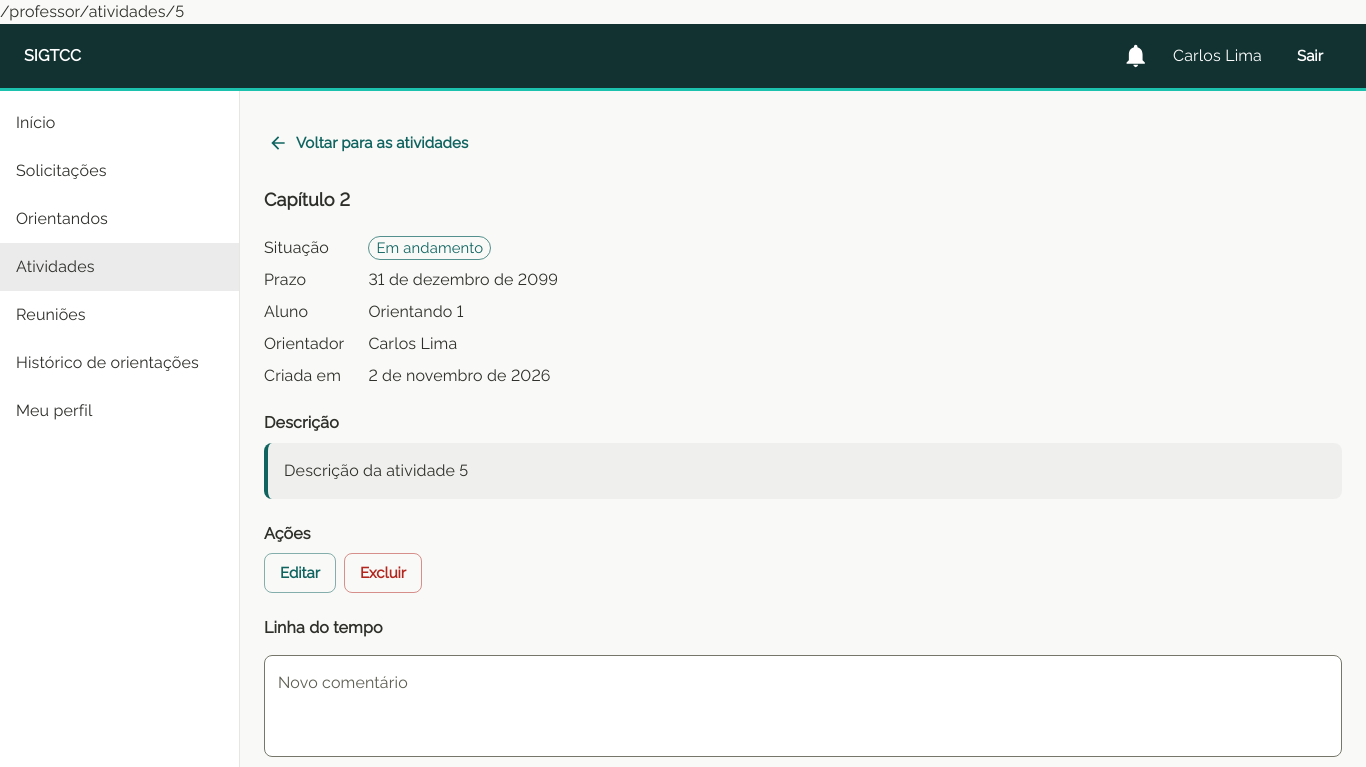
Test: Excluir atividade: a confirmação (RNF21) › pede confirmação explícita, diz que a atividade deixa de aparecer junto com as entregas e os comentários e que não há como recuperá-la
The width and height of the screenshot is (1366, 767).
Click the button "Excluir".
click(383, 573)  # box [344,553,422,593]
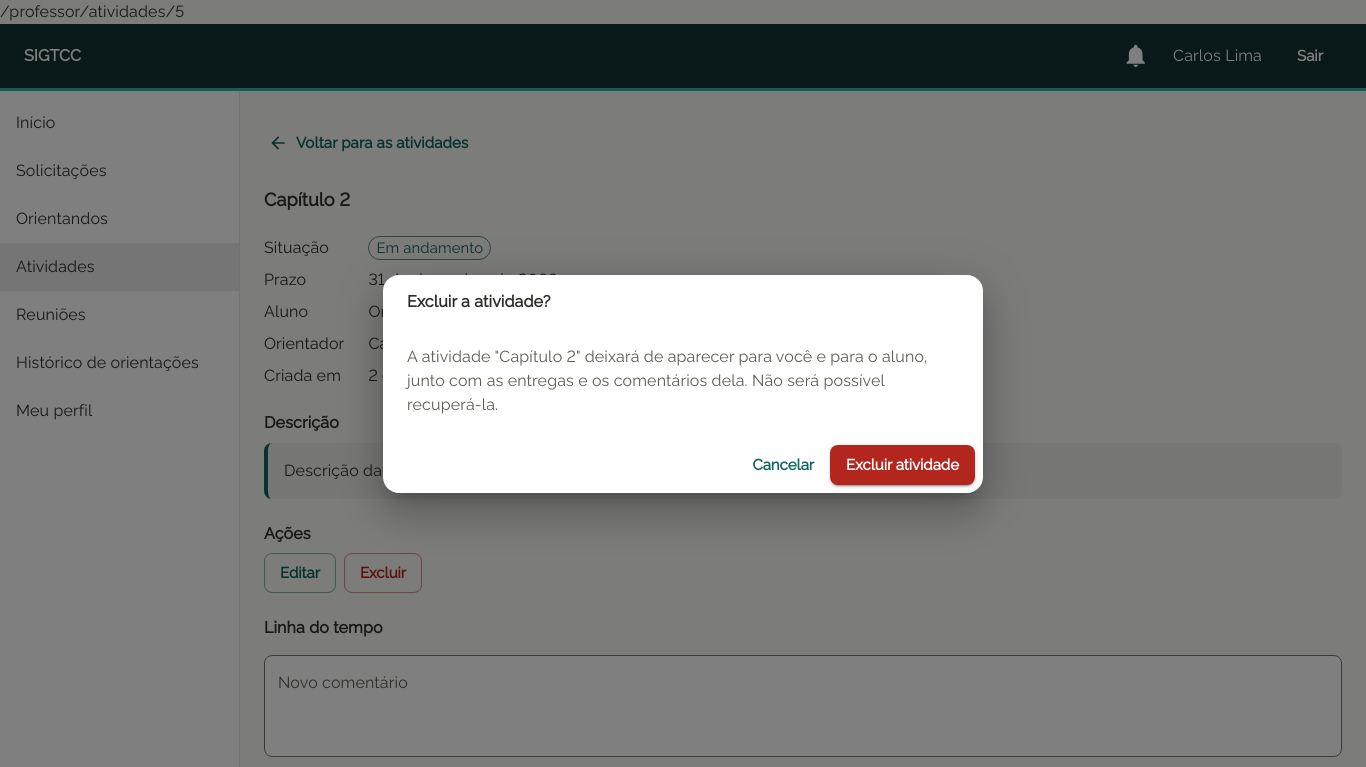
Expected: the text "deixará de aparecer para você e para o aluno, junto com as entregas e os comentários dela. Não será possível recuperá-l" is shown, [407,347,928,414]
